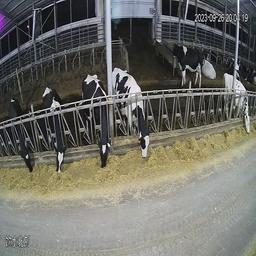cow: (111, 66, 153, 161), (81, 70, 110, 165), (41, 84, 68, 172), (7, 96, 34, 172), (222, 70, 250, 136), (172, 40, 204, 88), (201, 58, 218, 78)
